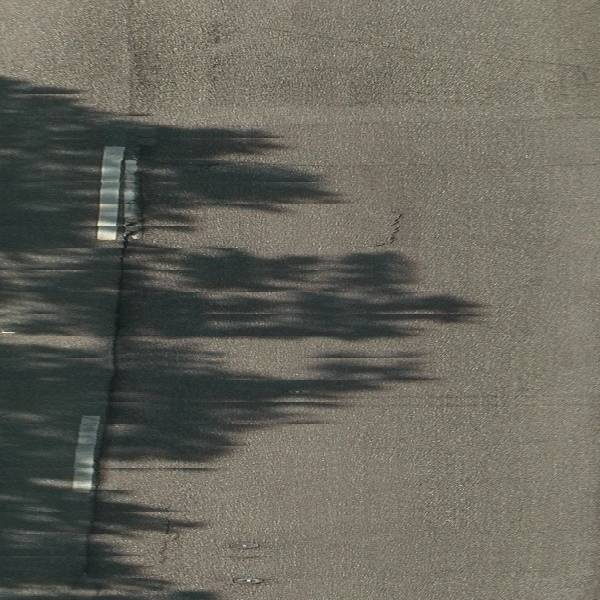road_damage: (79, 218, 149, 600), (222, 534, 275, 597), (378, 211, 411, 247)
